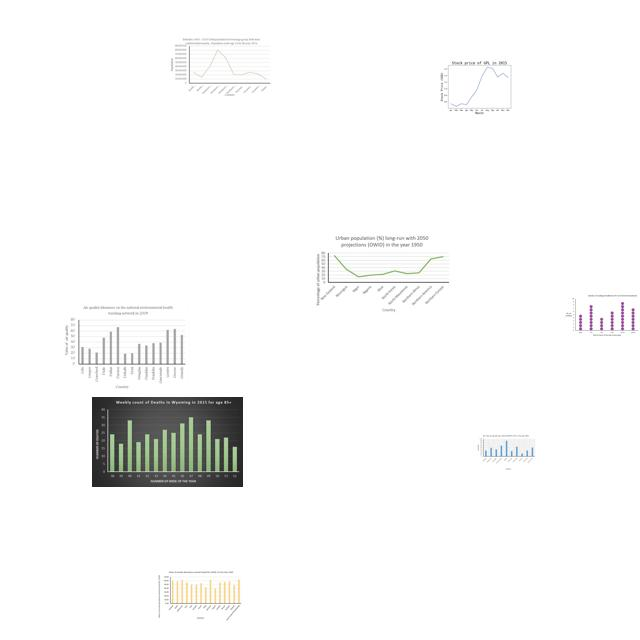Graph: (92, 397, 243, 487), (313, 233, 451, 314), (62, 303, 189, 391), (170, 37, 272, 97), (438, 56, 519, 117), (156, 570, 245, 622), (563, 293, 640, 338), (476, 434, 536, 470)
